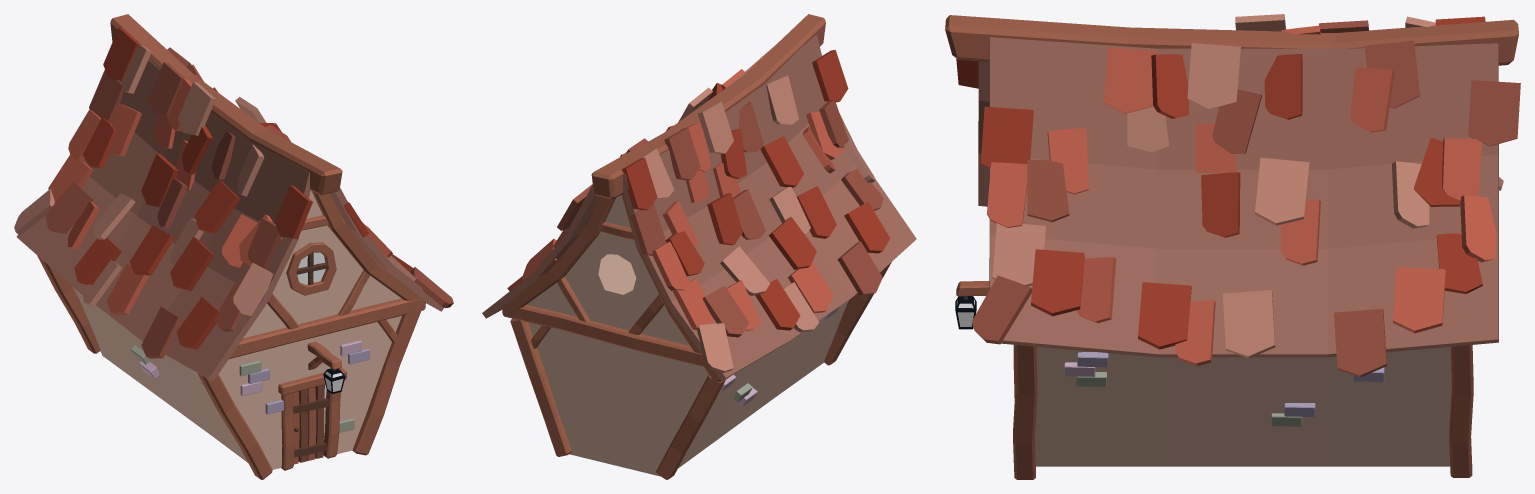
File: house1.fbx
3 views of the same model, side by side, from view 1: azimuth 30°, elevation 25°; view 2: azimuth 150°, elevation 25°; view 3: azimuth 270°, elevation 25° (orthographic). The views are drawn at different scales.
Parts seen in each view (by area): view 1: Plane.003, Plane.005, Plane.004, Cube.024, Cube.014, Cube.013, Cube.012, Cube.016, Plane.001, Cube, Cube.107, Cube.116 (+42 smaller); view 2: Plane, Plane.003, Plane.004, Cube.024, Cube.002, Cube.001, Cube.004, Cube, Plane.001, Cube.093, Cube.115, Cube.111 (+40 smaller); view 3: Plane.001, Plane.002, Cube.024, Cube.058, Cube.056, Cube.079, Cube.070, Cube.074, Cube.068, Cube.046, Cube.050, Cube.013 (+27 smaller).
Part boxes in pixels (bbox=[...]): Plane.003: bbox=[16, 59, 310, 381]; Plane.005: bbox=[218, 190, 401, 469]; Plane.004: bbox=[74, 288, 247, 462]; Cube.024: bbox=[110, 14, 342, 195]; Cube.014: bbox=[229, 298, 425, 358]; Cube.013: bbox=[352, 310, 420, 455]; Cube.012: bbox=[197, 373, 272, 479]; Cube.016: bbox=[311, 191, 421, 301]; Plane.001: bbox=[264, 126, 443, 311]; Cube: bbox=[37, 255, 100, 353]; Cube.107: bbox=[45, 181, 93, 234]; Cube.116: bbox=[194, 180, 240, 234]; Plane: bbox=[527, 195, 708, 476]; Plane.003: bbox=[623, 34, 916, 380]; Plane.004: bbox=[678, 299, 849, 468]; Cube.024: bbox=[591, 14, 825, 199]; Cube.002: bbox=[502, 304, 706, 366]; Cube.001: bbox=[510, 318, 571, 456]; Cube.004: bbox=[504, 197, 615, 315]; Cube: bbox=[656, 375, 726, 479]; Plane.001: bbox=[482, 45, 775, 318]; Cube.093: bbox=[837, 241, 882, 295]; Cube.115: bbox=[769, 216, 816, 269]; Cube.111: bbox=[844, 201, 890, 253]; Plane.001: bbox=[989, 37, 1498, 357]; Plane.002: bbox=[1035, 347, 1451, 466]; Cube.024: bbox=[945, 15, 1518, 65]; Cube.058: bbox=[1222, 290, 1275, 358]; Cube.056: bbox=[1334, 308, 1386, 377]; Cube.079: bbox=[1255, 157, 1309, 225]; Cube.070: bbox=[1031, 249, 1084, 316]; Cube.074: bbox=[1393, 266, 1445, 333]; Cube.068: bbox=[1138, 282, 1191, 349]; Cube.046: bbox=[1187, 43, 1240, 109]; Cube.050: bbox=[1468, 80, 1520, 146]; Cube.013: bbox=[1013, 345, 1037, 479].
Size of the model in its own units: 285 by 321 by 397.
